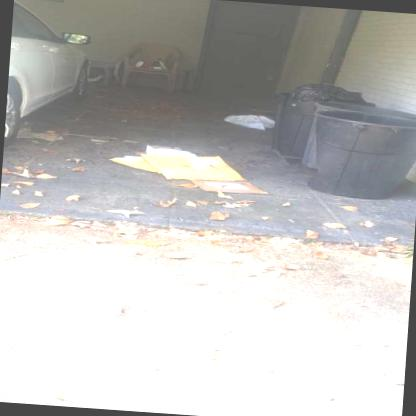envelope: (138, 150, 245, 183), (194, 176, 274, 196)
